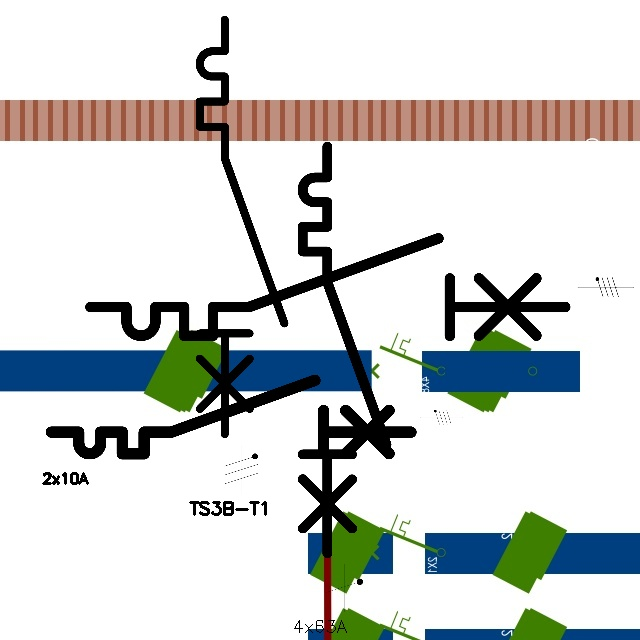interruptor_termomagnetico: (78, 226, 577, 348), (189, 9, 295, 444), (292, 136, 396, 563), (42, 371, 420, 463)
